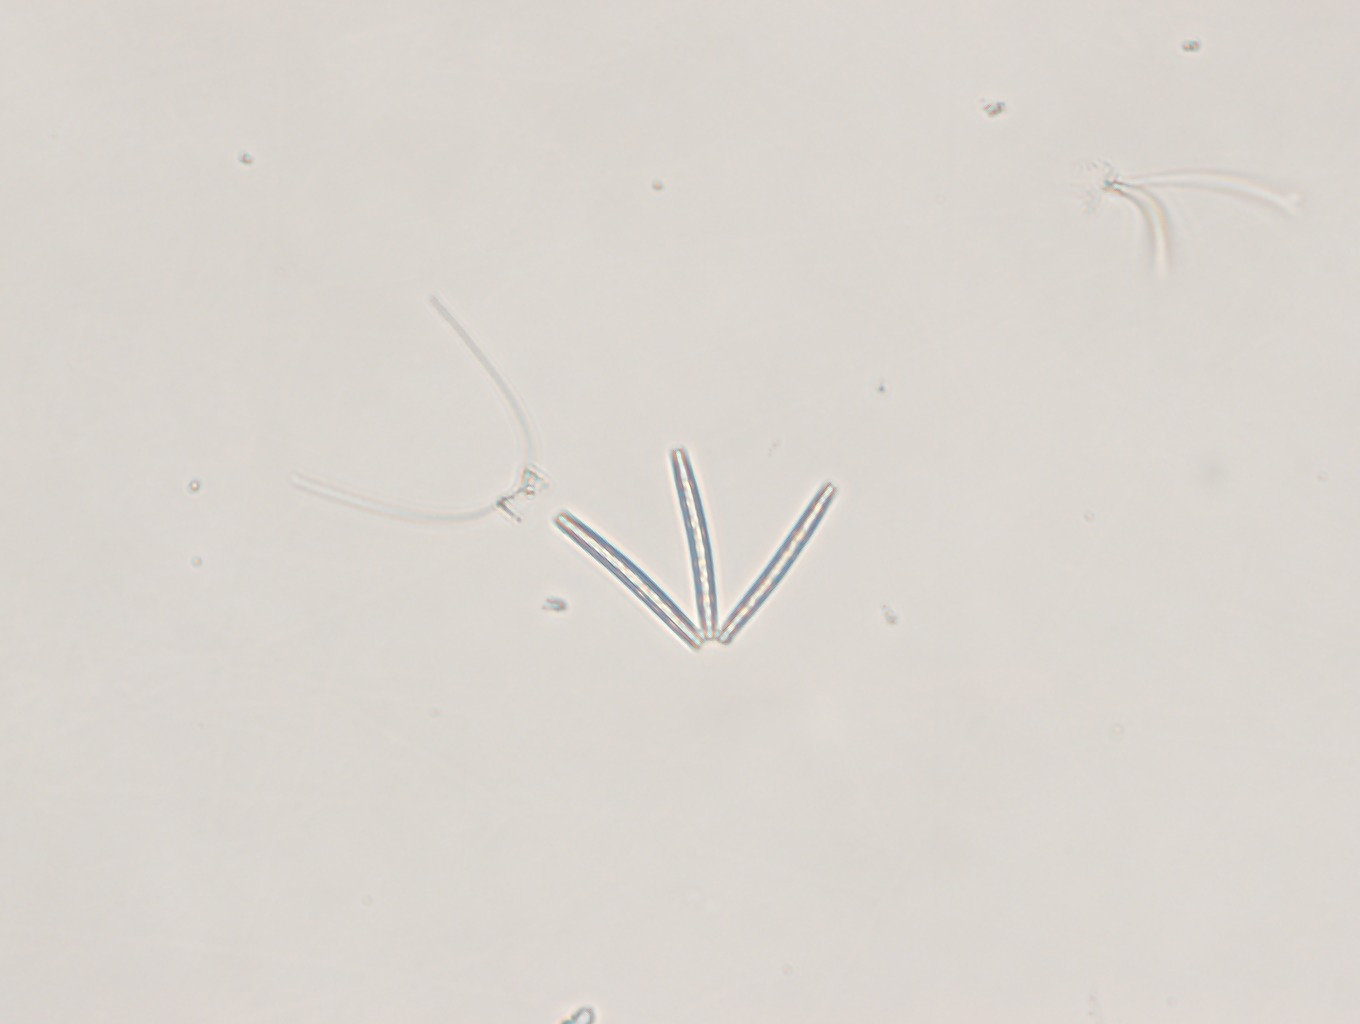thalassionema frauenfeldii: (549, 438, 847, 656)
